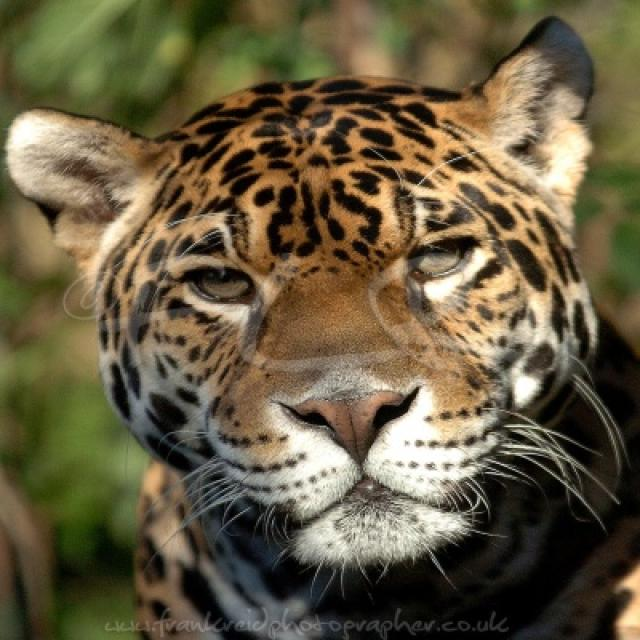Jaguar: (5, 16, 638, 638)
